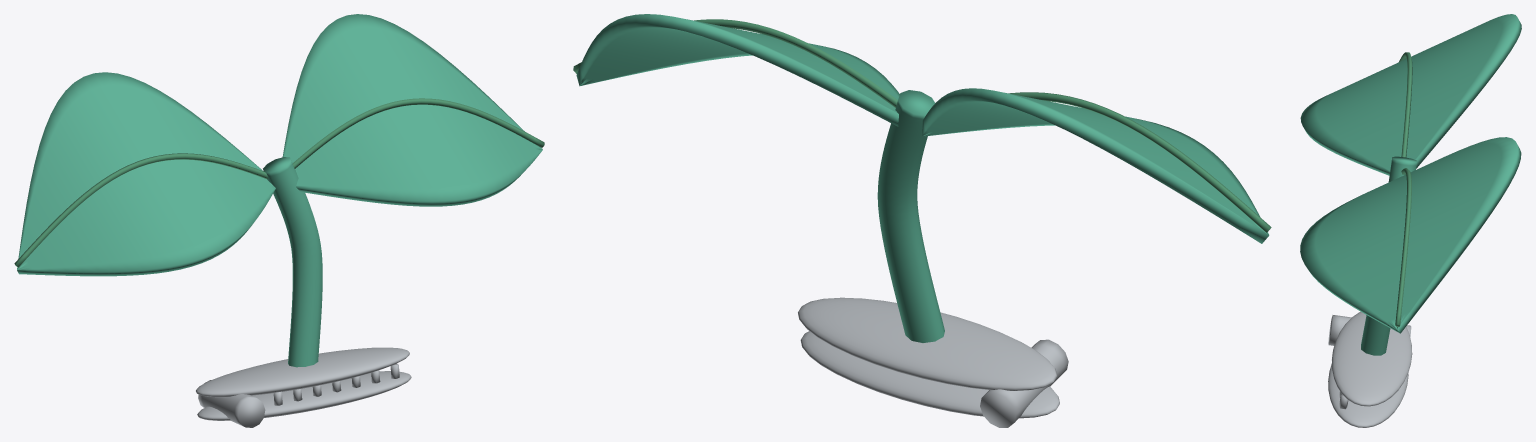
The model's file is Feminine-straight-bucket260-sprout.glb.
The picture shows the model from 3 angles, left to right: view 1: azimuth 30°, elevation 25°; view 2: azimuth 150°, elevation 25°; view 3: azimuth 270°, elevation 25°; orthographic projection. The views are drawn at different scales.
Visible parts, largest first — view 1: 226 extra / Accessory / mint226, 226 extra / Sprout / clip silver235, 226 extra / Sprout / leaf vein235; view 2: 226 extra / Accessory / mint226, 226 extra / Sprout / clip silver235, 226 extra / Sprout / leaf vein235; view 3: 226 extra / Accessory / mint226, 226 extra / Sprout / clip silver235, 226 extra / Sprout / leaf vein235.
Boxes of the visible parts, <box> form: 226 extra / Accessory / mint226: <box>17,14,542,367</box>; 226 extra / Sprout / clip silver235: <box>196,347,411,427</box>; 226 extra / Sprout / leaf vein235: <box>14,98,544,267</box>; 226 extra / Accessory / mint226: <box>576,14,1269,342</box>; 226 extra / Sprout / clip silver235: <box>798,297,1068,427</box>; 226 extra / Sprout / leaf vein235: <box>573,19,1271,232</box>; 226 extra / Accessory / mint226: <box>1300,14,1521,355</box>; 226 extra / Sprout / clip silver235: <box>1328,311,1412,427</box>; 226 extra / Sprout / leaf vein235: <box>1395,52,1412,326</box>.
Bounding box in the file's own units: 0.2716 × 0.1522 × 0.1008.
